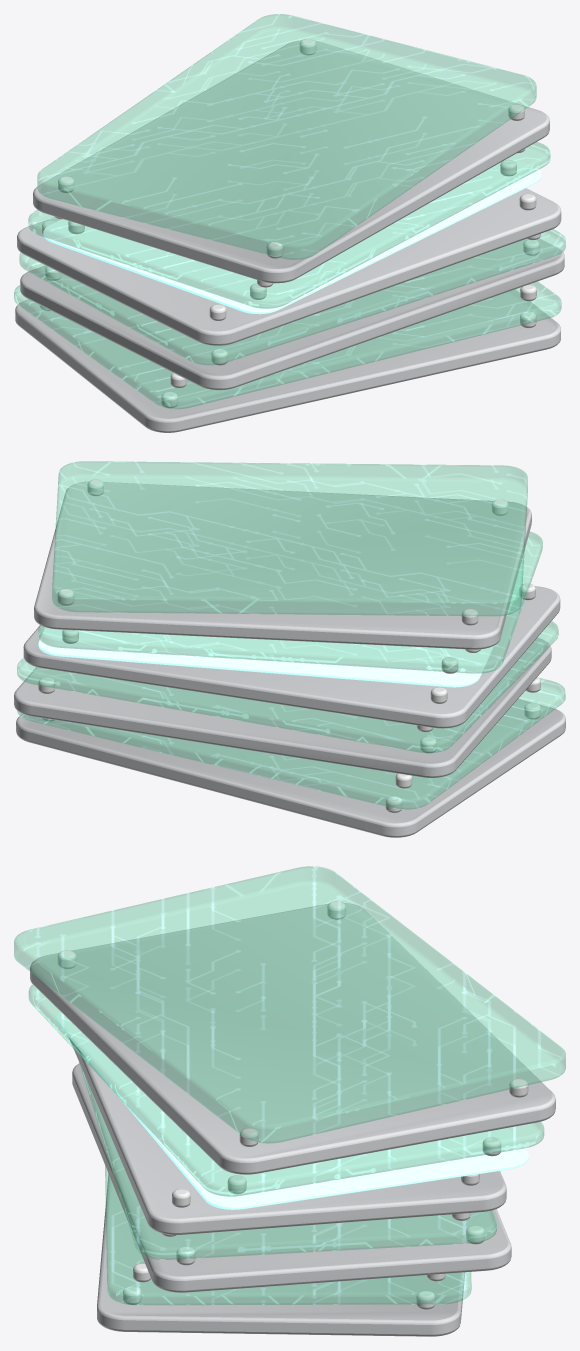
Rendered from plates.glb.
The picture shows the model from 3 angles, top to bottom: view 1: azimuth 30°, elevation 25°; view 2: azimuth 150°, elevation 25°; view 3: azimuth 270°, elevation 25°; orthographic projection. The views are drawn at different scales.
Parts seen in each view (by area): view 1: RE2_PlatesMetal, RE2_PlatesGlass, RE2_PlatesGlow, RE2_PlatesPosts; view 2: RE2_PlatesMetal, RE2_PlatesGlass, RE2_PlatesGlow, RE2_PlatesPosts; view 3: RE2_PlatesMetal, RE2_PlatesGlass, RE2_PlatesGlow, RE2_PlatesPosts.
Part boxes in pixels (x1=…): RE2_PlatesMetal: x1=15, y1=40, x2=564, y2=432; RE2_PlatesGlass: x1=14, y1=14, x2=565, y2=408; RE2_PlatesGlow: x1=43, y1=157, x2=541, y2=314; RE2_PlatesPosts: x1=39, y1=39, x2=540, y2=408; RE2_PlatesMetal: x1=14, y1=481, x2=565, y2=837; RE2_PlatesGlass: x1=17, y1=461, x2=565, y2=809; RE2_PlatesGlow: x1=38, y1=564, x2=526, y2=687; RE2_PlatesPosts: x1=38, y1=479, x2=540, y2=812; RE2_PlatesMetal: x1=30, y1=903, x2=555, y2=1336; RE2_PlatesGlass: x1=14, y1=866, x2=565, y2=1304; RE2_PlatesGlow: x1=55, y1=1011, x2=528, y2=1209; RE2_PlatesPosts: x1=57, y1=901, x2=528, y2=1309.
Bounding box in the file's own units: 2.12 × 0.857 × 1.88.
